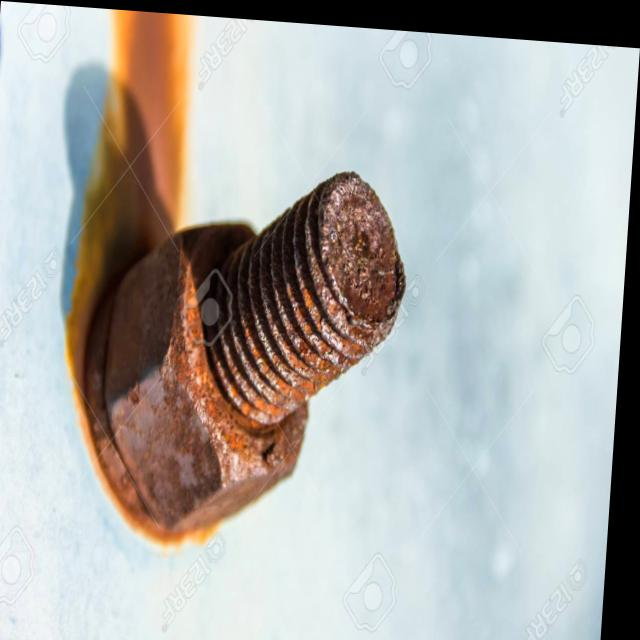Rusty bolt: (101, 208, 333, 531)
